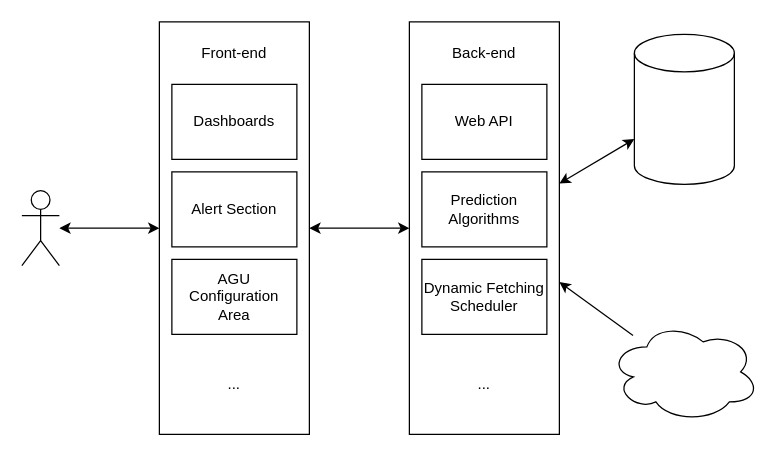
This 781x456 diagram has some shape labels left out. The shapes that lost their labels are listed below. From the top down, each one's centre as x and y in pixels, then its label:
At point (683, 108): "PostgreSQL".
At point (40, 227): "Actor".
At point (683, 371): "URL".
